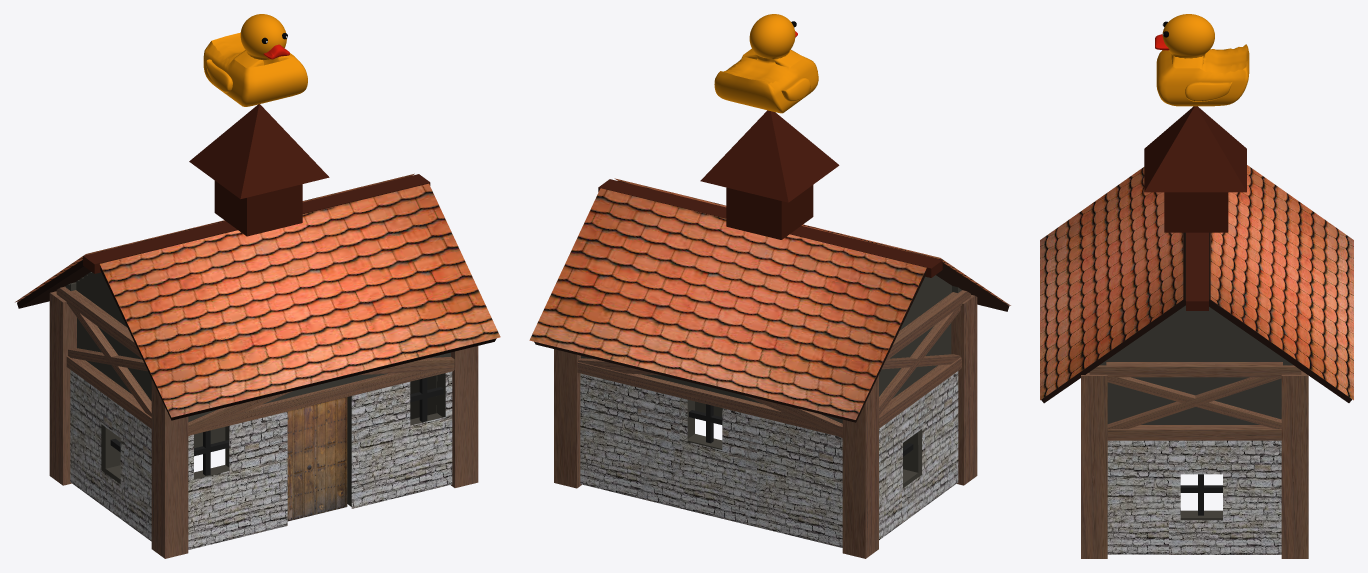
File: DucksHOUSING1.obj
3 views of the same model, side by side, from view 1: azimuth 30°, elevation 25°; view 2: azimuth 150°, elevation 25°; view 3: azimuth 270°, elevation 25° (orthographic).
Visible parts, largest first — view 1: polySurface15 polySurface23, pCube33, pPlane9, pPlane8, polySurface19, pPlane20, Duck:polySurface2, pCube22, pCube29, pPlane15, pCube24, pPlane16 (+9 smaller); view 2: polySurface15 polySurface24, pCube33, pPlane11, pPlane12, pPlane13, Duck:polySurface2, pCube24, pPlane16, pCube29, polySurface19, pCube22, pCube23 (+6 smaller); view 3: polySurface15 polySurface24, polySurface15 polySurface23, pPlane19, polySurface19, pCube33, Duck:polySurface2, pCube23, pCube21, pCube30 polySurface37, polySurface36 pCube30, pCube30 polySurface39, pCube30 polySurface38 (+3 smaller).
Part boxes in pixels (x1,y1,x2,y2): polySurface15 polySurface23: [100, 183, 500, 417]; pCube33: [83, 104, 430, 273]; pPlane9: [351, 371, 452, 508]; pPlane8: [188, 411, 287, 549]; polySurface19: [65, 272, 463, 506]; pPlane20: [287, 397, 347, 521]; Duck:polySurface2: [203, 14, 307, 106]; pCube22: [151, 379, 188, 558]; pCube29: [56, 286, 151, 428]; pPlane15: [70, 370, 128, 524]; pCube24: [49, 291, 76, 485]; pPlane16: [100, 392, 151, 541]; polySurface15 polySurface24: [529, 188, 926, 419]; pCube33: [598, 110, 942, 277]; pPlane11: [745, 414, 842, 547]; pPlane12: [580, 373, 679, 508]; pPlane13: [641, 388, 756, 526]; Duck:polySurface2: [714, 14, 818, 113]; pCube24: [842, 375, 878, 558]; pPlane16: [902, 371, 958, 523]; pCube29: [879, 290, 970, 428]; polySurface19: [581, 275, 961, 488]; pCube22: [951, 295, 977, 485]; pCube23: [554, 349, 581, 488]; polySurface15 polySurface24: [1210, 165, 1353, 400]; polySurface15 polySurface23: [1040, 167, 1183, 400]; pPlane19: [1107, 440, 1281, 554]; polySurface19: [1089, 211, 1293, 520]; pCube33: [1144, 106, 1246, 310]; Duck:polySurface2: [1155, 14, 1249, 106]; pCube23: [1281, 371, 1308, 558]; pCube21: [1081, 373, 1107, 558]; pCube30 polySurface37: [1089, 362, 1301, 377]; polySurface36 pCube30: [1107, 425, 1281, 440]; pCube30 polySurface39: [1107, 377, 1281, 429]; pCube30 polySurface38: [1107, 377, 1281, 429].
Size of what is drawn, in the model's own units: 14.41 by 19.1 by 11.68.
Materials: 14 (4 with a texture image).
